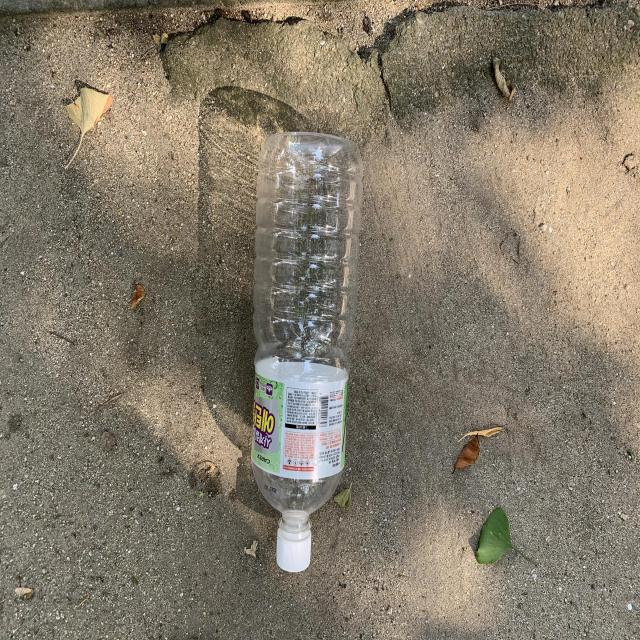plastic: (251, 132, 363, 573)
